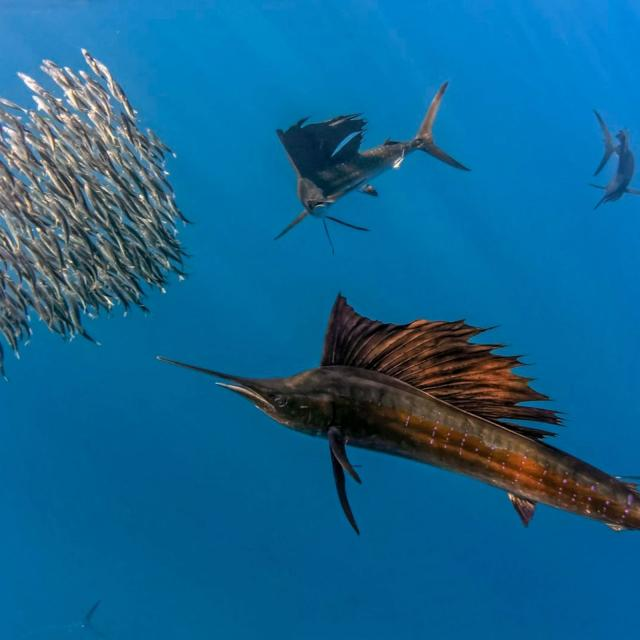Sail Fish: (155, 289, 640, 537), (271, 80, 473, 255), (587, 107, 640, 210)
